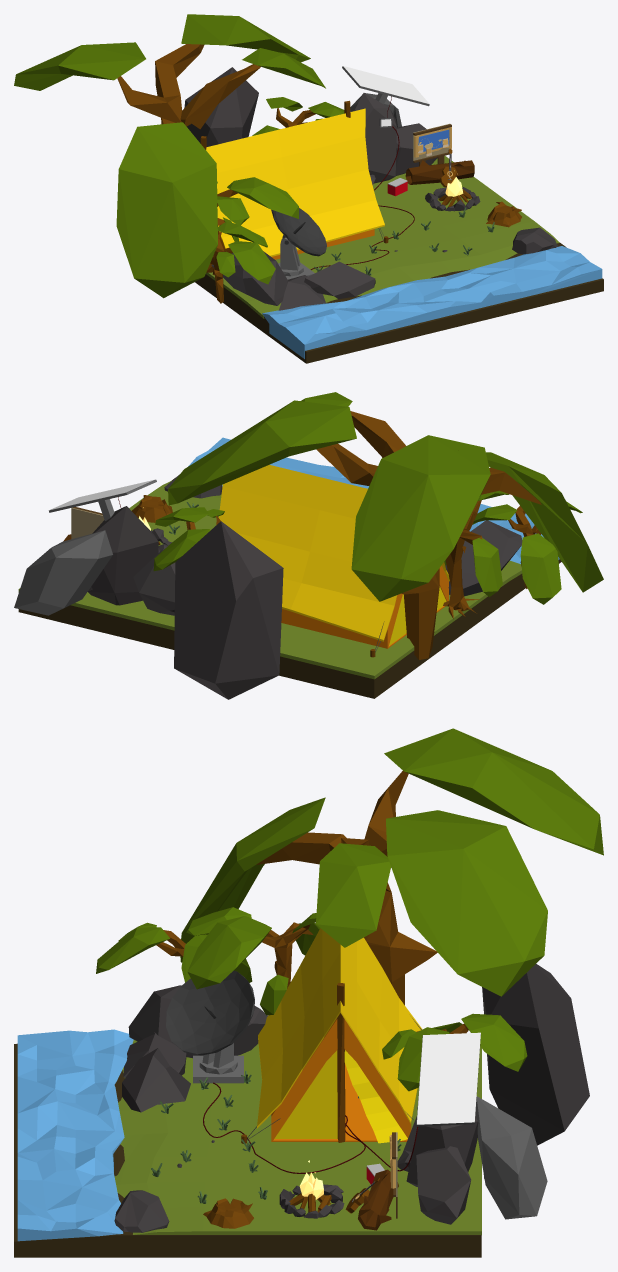
The model's file is campsite_baking_test1.glb.
3 renders of one model, top to bottom at view 1: azimuth 30°, elevation 25°; view 2: azimuth 150°, elevation 25°; view 3: azimuth 270°, elevation 25°, orthographic. The views are drawn at different scales.
Parts seen in each view (by area): view 1: Large_tree, Tent_top, Water, Grass_layer, Soil_layer, Rock2_2, Rock2_1, Rock2_3, Small_tree3, Small_tree1, Satellite Dish, Small_tree2 (+6 smaller); view 2: Large_tree, Rock2_3, Tent_top, Grass_layer, Soil_layer, Rock2_1, Small_tree3, Small_tree1, Rock2_2, Small_tree2, Tent_body, Water (+4 smaller); view 3: Large_tree, Grass_layer, Water, Rock2_3, Tent_top, Soil_layer, Satellite Dish, Small_tree1, Rock2_2, Rock2_1, Solar_panel_surface, Tent_body (+9 smaller).
Boxes of the visible parts, x1=… form: Large_tree: x1=14, y1=14, x2=325, y2=298; Tent_top: x1=206, y1=108, x2=384, y2=256; Water: x1=262, y1=246, x2=602, y2=358; Grass_layer: x1=206, y1=155, x2=559, y2=318; Soil_layer: x1=195, y1=243, x2=603, y2=363; Rock2_2: x1=211, y1=251, x2=375, y2=310; Rock2_1: x1=354, y1=93, x2=437, y2=185; Rock2_3: x1=184, y1=67, x2=401, y2=146; Small_tree3: x1=211, y1=221, x2=275, y2=303; Small_tree1: x1=206, y1=177, x2=298, y2=272; Satellite Dish: x1=271, y1=208, x2=326, y2=279; Small_tree2: x1=252, y1=97, x2=344, y2=135; Large_tree: x1=168, y1=392, x2=603, y2=659; Rock2_3: x1=14, y1=521, x2=283, y2=699; Tent_top: x1=218, y1=464, x2=449, y2=641; Grass_layer: x1=18, y1=480, x2=522, y2=679; Soil_layer: x1=18, y1=477, x2=561, y2=698; Rock2_1: x1=88, y1=506, x2=175, y2=615; Small_tree3: x1=472, y1=501, x2=582, y2=604; Small_tree1: x1=443, y1=490, x2=509, y2=618; Rock2_2: x1=445, y1=520, x2=522, y2=596; Small_tree2: x1=153, y1=507, x2=224, y2=571; Tent_body: x1=281, y1=565, x2=448, y2=648; Water: x1=188, y1=437, x2=559, y2=563; Large_tree: x1=180, y1=728, x2=603, y2=1005; Grass_layer: x1=114, y1=1040, x2=481, y2=1234; Water: x1=17, y1=1029, x2=133, y2=1241; Rock2_3: x1=475, y1=964, x2=589, y2=1219; Tent_top: x1=257, y1=928, x2=422, y2=1128; Soil_layer: x1=14, y1=1043, x2=481, y2=1257; Satellite Dish: x1=166, y1=970, x2=254, y2=1083; Small_tree1: x1=186, y1=907, x2=320, y2=1015; Rock2_2: x1=122, y1=985, x2=267, y2=1112; Rock2_1: x1=397, y1=1116, x2=478, y2=1224; Solar_panel_surface: x1=417, y1=1032, x2=480, y2=1124; Tent_body: x1=271, y1=1018, x2=411, y2=1141.
Size of the model in its own units: 10.67 by 5.69 by 10.09.
